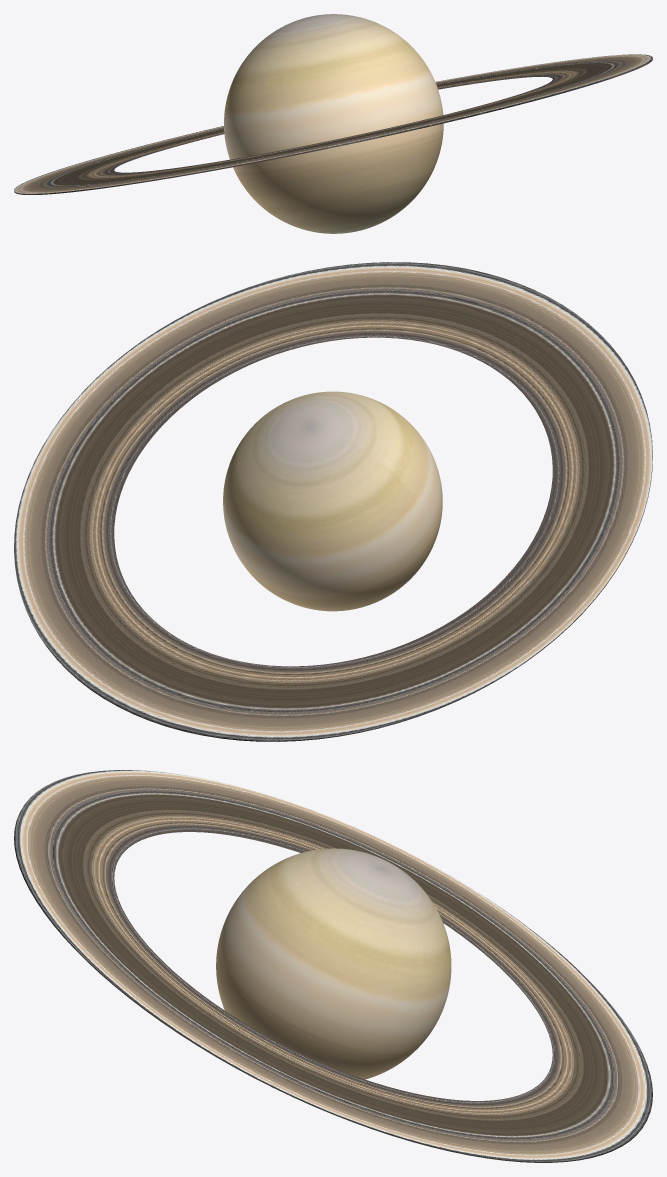
File: Saturn.obj
The picture shows the model from 3 angles, top to bottom: view 1: azimuth 30°, elevation 25°; view 2: azimuth 150°, elevation 25°; view 3: azimuth 270°, elevation 25°; orthographic projection. The views are drawn at different scales.
Parts seen in each view (by area): view 1: Saturn; view 2: Saturn; view 3: Saturn.
Boxes of the visible parts, x1,y1,x2,y2 form: Saturn: (14,14,652,233); Saturn: (14,262,652,741); Saturn: (14,770,652,1162).
Bounding box in the file's own units: 1.89 × 0.7719 × 1.73.
1 material, 1 textured.
